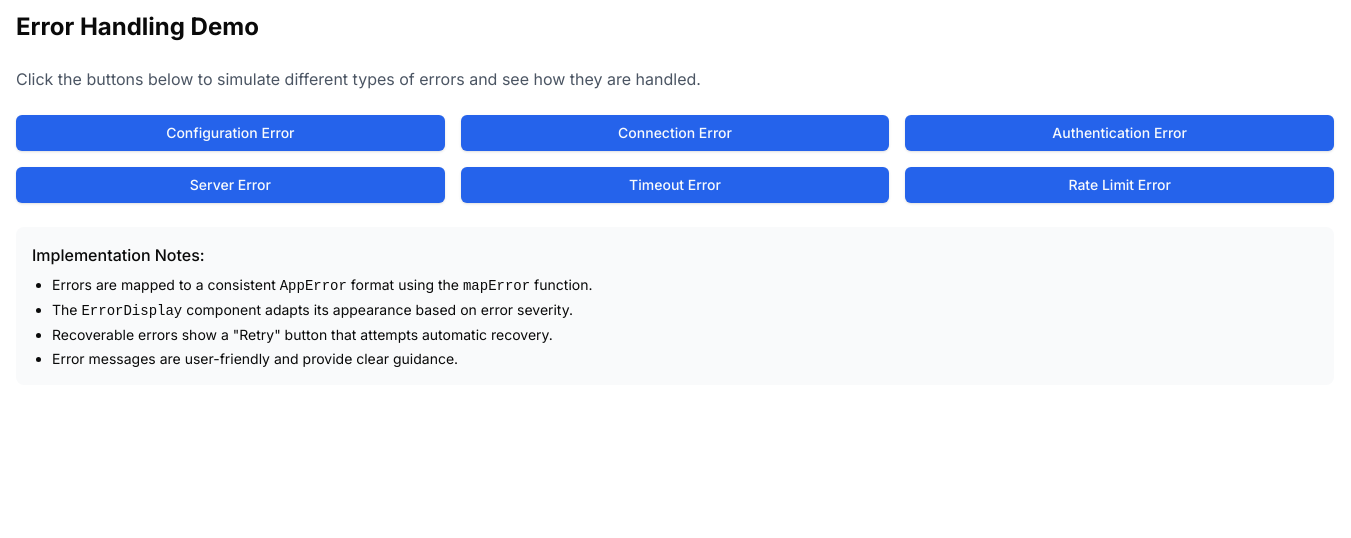
Scenario: ErrorHandlingDemo Component › should display the error message after simulation
Click on a button to simulate an error
Click the button "Authentication Error" at (1120, 133), box [905, 115, 1334, 151]
Wait 1000 ms
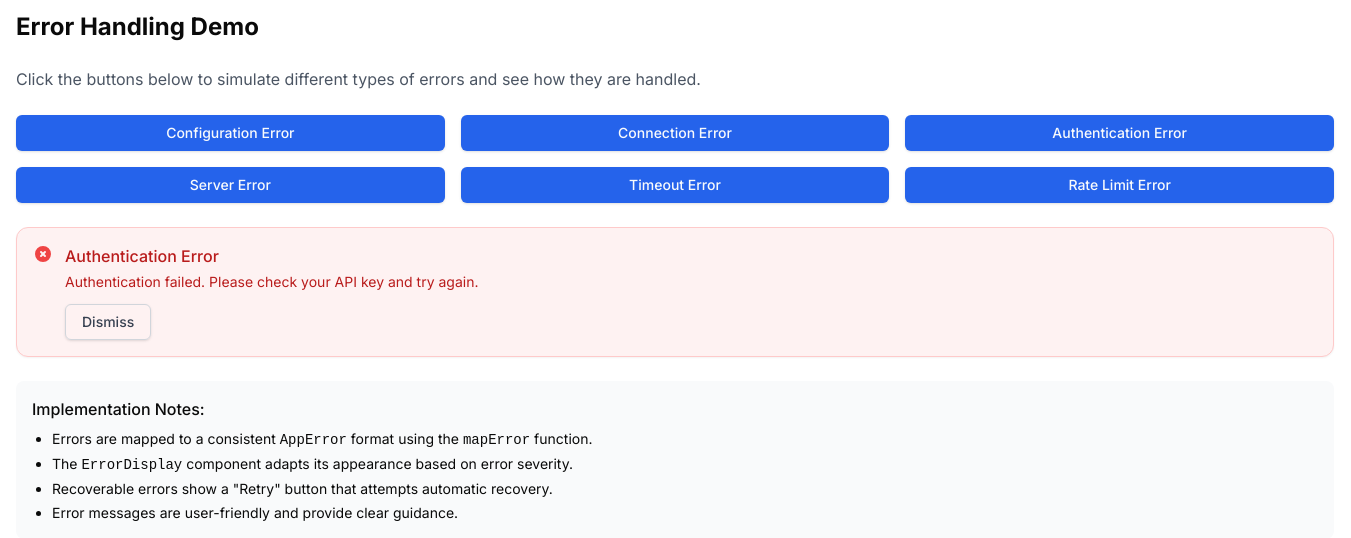
Result: the text "check your API key" is shown at [65, 273, 478, 290]
